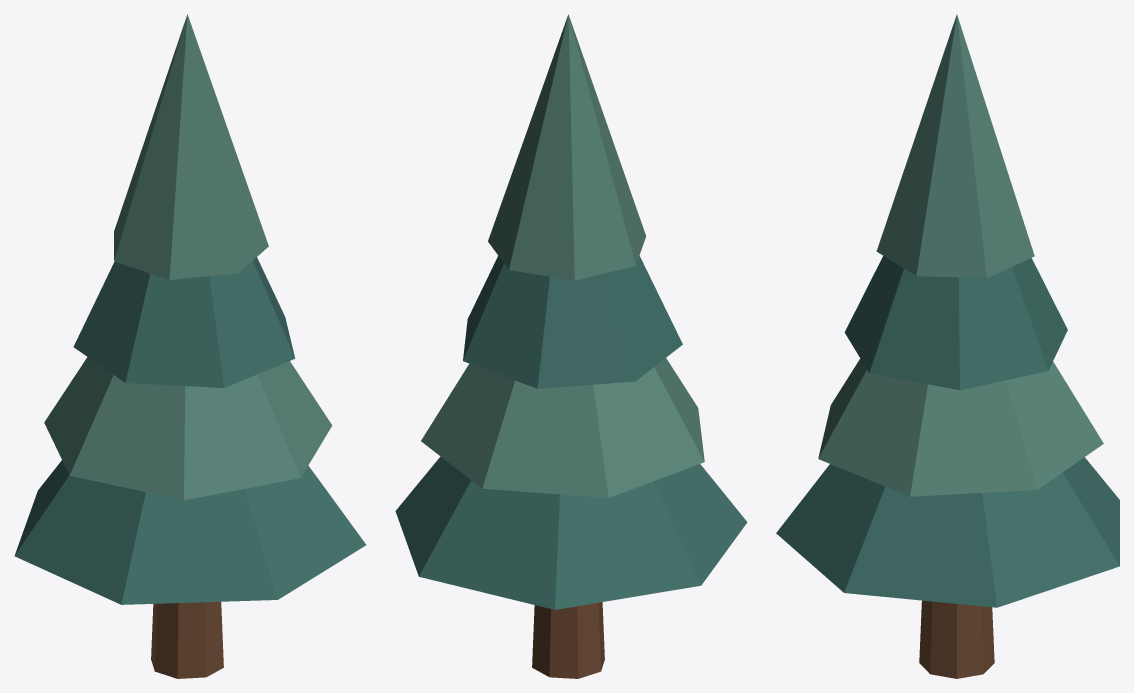
Rendered from jedle.glb.
3 views of the same model, side by side, from view 1: azimuth 30°, elevation 25°; view 2: azimuth 150°, elevation 25°; view 3: azimuth 270°, elevation 25° (orthographic).
Parts seen in each view (by area): view 1: material_3f7069, material_59877b, material_785239; view 2: material_3f7069, material_59877b, material_785239; view 3: material_3f7069, material_59877b, material_785239.
Part boxes in pixels (x1,y1,x2,y2): material_3f7069: (14, 257, 365, 604); material_59877b: (44, 14, 332, 500); material_785239: (151, 601, 223, 678); material_3f7069: (395, 256, 747, 609); material_59877b: (421, 14, 704, 497); material_785239: (532, 602, 604, 678); material_3f7069: (776, 256, 1119, 607); material_59877b: (818, 14, 1103, 496); material_785239: (919, 600, 994, 678).
Size of the model in its own units: 2.34 by 4.75 by 2.28.
